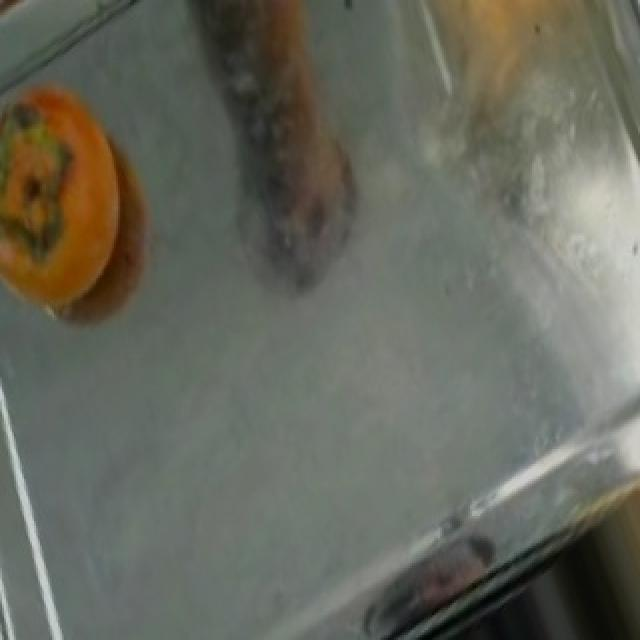Fruit: (0, 60, 148, 338)
